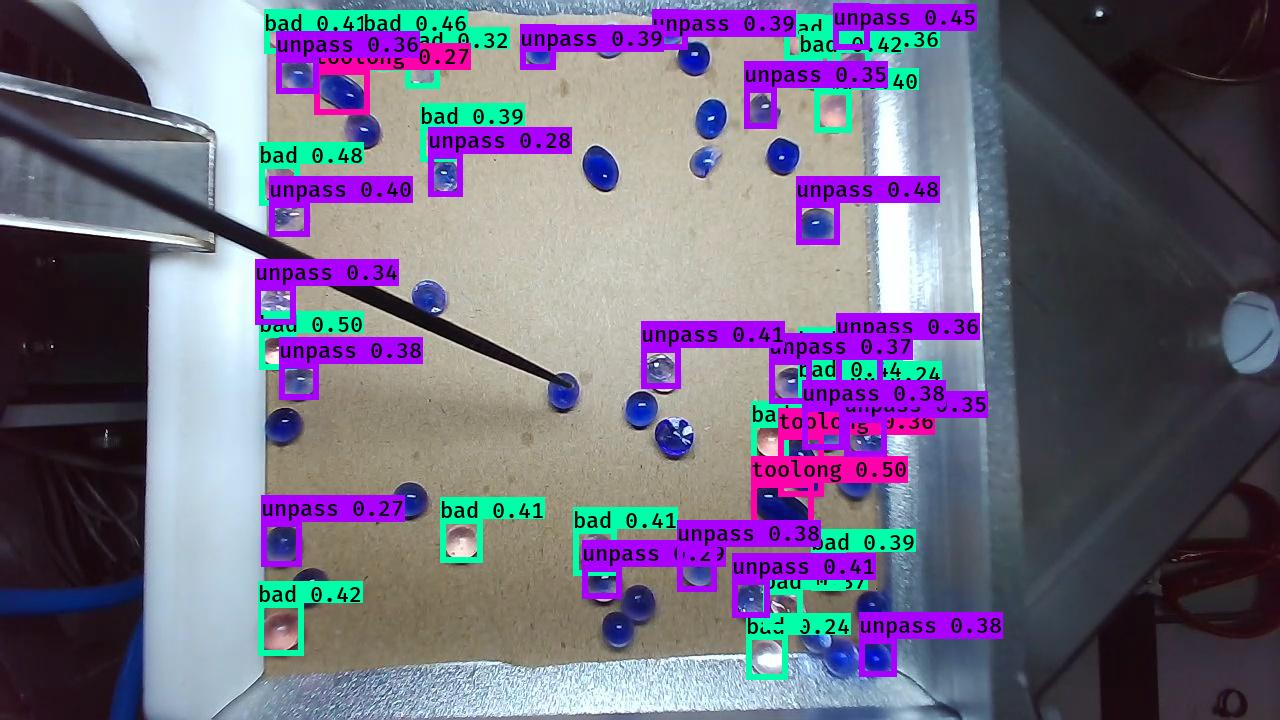bad: (839, 383, 890, 431), (256, 606, 304, 655), (784, 15, 829, 62), (266, 9, 310, 55), (815, 92, 859, 135), (261, 163, 304, 204), (747, 638, 788, 679), (765, 588, 806, 629), (748, 423, 790, 463), (813, 550, 852, 593), (420, 128, 458, 169), (578, 529, 616, 570), (832, 52, 873, 89), (362, 33, 401, 71), (442, 524, 481, 561), (260, 333, 297, 369), (801, 352, 837, 389), (806, 387, 841, 423), (802, 53, 835, 91), (404, 53, 438, 88)
defact: (687, 143, 727, 181)
pass: (578, 144, 621, 195), (658, 413, 700, 464), (386, 479, 431, 523), (287, 565, 329, 610), (624, 391, 666, 434), (833, 459, 874, 502), (545, 371, 585, 415), (340, 109, 381, 151), (261, 406, 304, 446), (690, 94, 729, 138), (598, 608, 636, 652), (763, 135, 801, 178), (412, 277, 452, 317), (619, 580, 656, 623), (857, 591, 892, 632), (677, 39, 711, 77)
toolong: (746, 483, 814, 545), (315, 72, 371, 122), (782, 436, 825, 496)
unpass: (794, 201, 844, 246), (260, 525, 308, 570), (832, 1, 875, 51), (836, 344, 880, 387), (274, 53, 317, 95), (256, 286, 300, 327), (649, 348, 688, 394), (269, 201, 314, 240), (769, 361, 808, 404), (845, 421, 889, 459), (822, 638, 862, 678), (731, 580, 768, 622), (680, 550, 717, 591), (800, 614, 836, 656), (584, 563, 622, 602), (278, 365, 319, 401), (858, 639, 897, 676), (593, 24, 629, 64), (747, 89, 781, 130), (430, 156, 462, 198), (521, 30, 556, 68), (804, 420, 840, 455), (651, 11, 685, 48)
